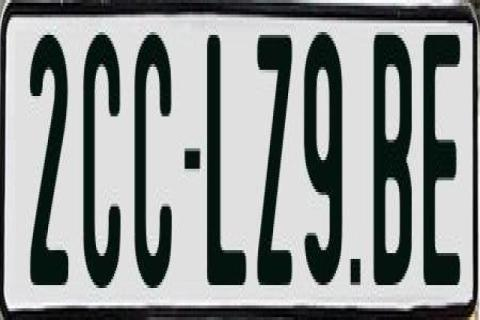0: (302, 32, 343, 294), (28, 26, 70, 276)
B: (372, 32, 416, 291)
C: (134, 26, 178, 294), (82, 24, 126, 282)
E: (421, 29, 459, 297)
L: (204, 32, 250, 291)
Z: (257, 26, 296, 276)
